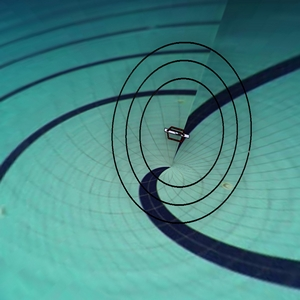circle: (105, 33, 259, 239)
submarine: (153, 112, 196, 148)
